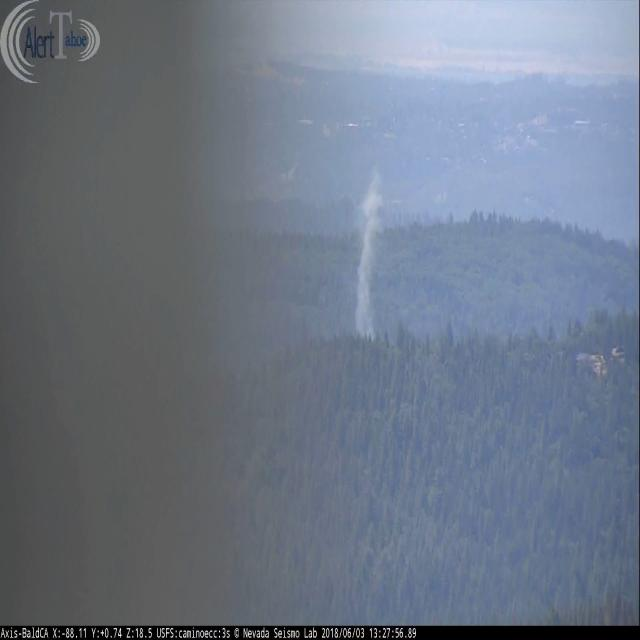smoke: (354, 172, 382, 338)
